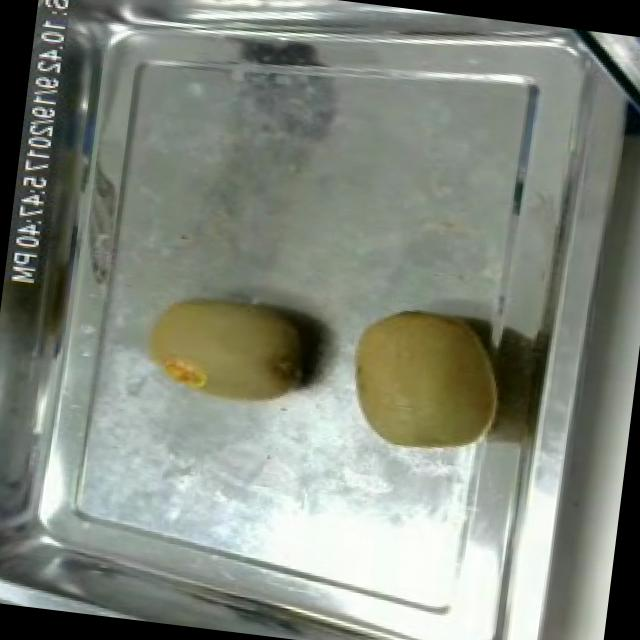Fruit: (329, 294, 515, 471), (130, 278, 322, 426)
